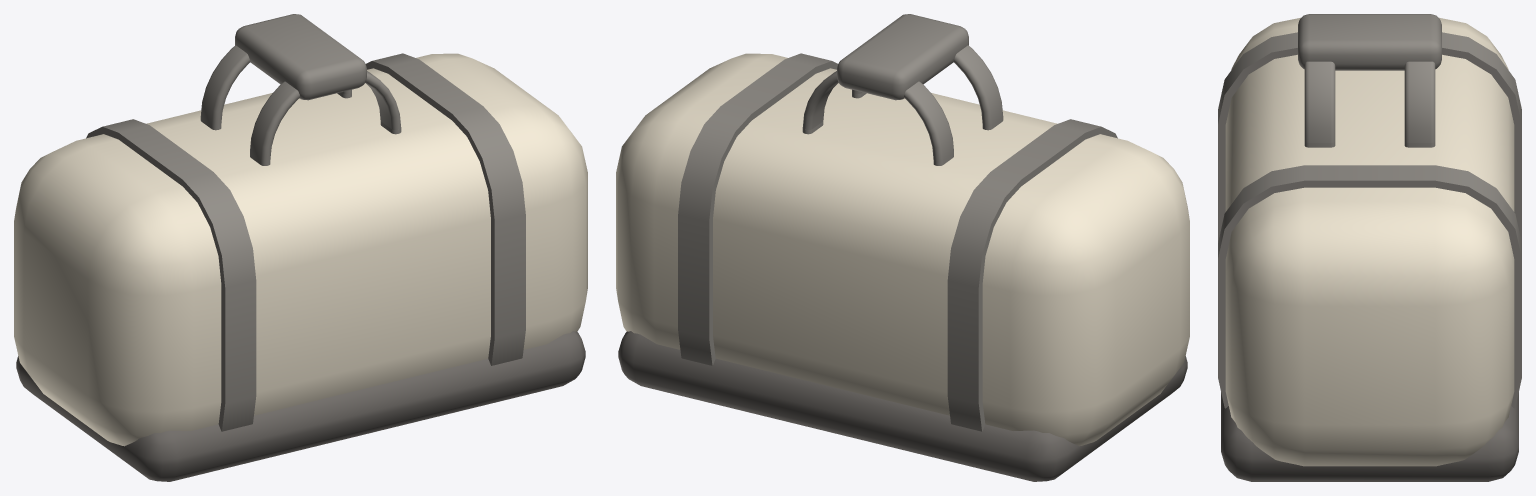
The model's file is bagage_sac_voyage.glb.
The picture shows the model from 3 angles, left to right: view 1: azimuth 30°, elevation 25°; view 2: azimuth 150°, elevation 25°; view 3: azimuth 270°, elevation 25°; orthographic projection.
Parts seen in each view (by area): view 1: VOY_Coque, VOY_Sangles, VOY_Fond; view 2: VOY_Coque, VOY_Sangles, VOY_Fond; view 3: VOY_Coque, VOY_Sangles, VOY_Fond.
Part boxes in pixels (<box>): VOY_Coque: <box>14,53,587,446</box>; VOY_Sangles: <box>86,14,525,431</box>; VOY_Fond: <box>16,331,585,481</box>; VOY_Coque: <box>616,53,1189,446</box>; VOY_Sangles: <box>678,14,1117,431</box>; VOY_Fond: <box>618,331,1187,481</box>; VOY_Coque: <box>1225,17,1514,466</box>; VOY_Sangles: <box>1218,14,1521,408</box>; VOY_Fond: <box>1221,392,1518,481</box>.
Bounding box in the file's own units: 0.6 × 0.406 × 0.316.
